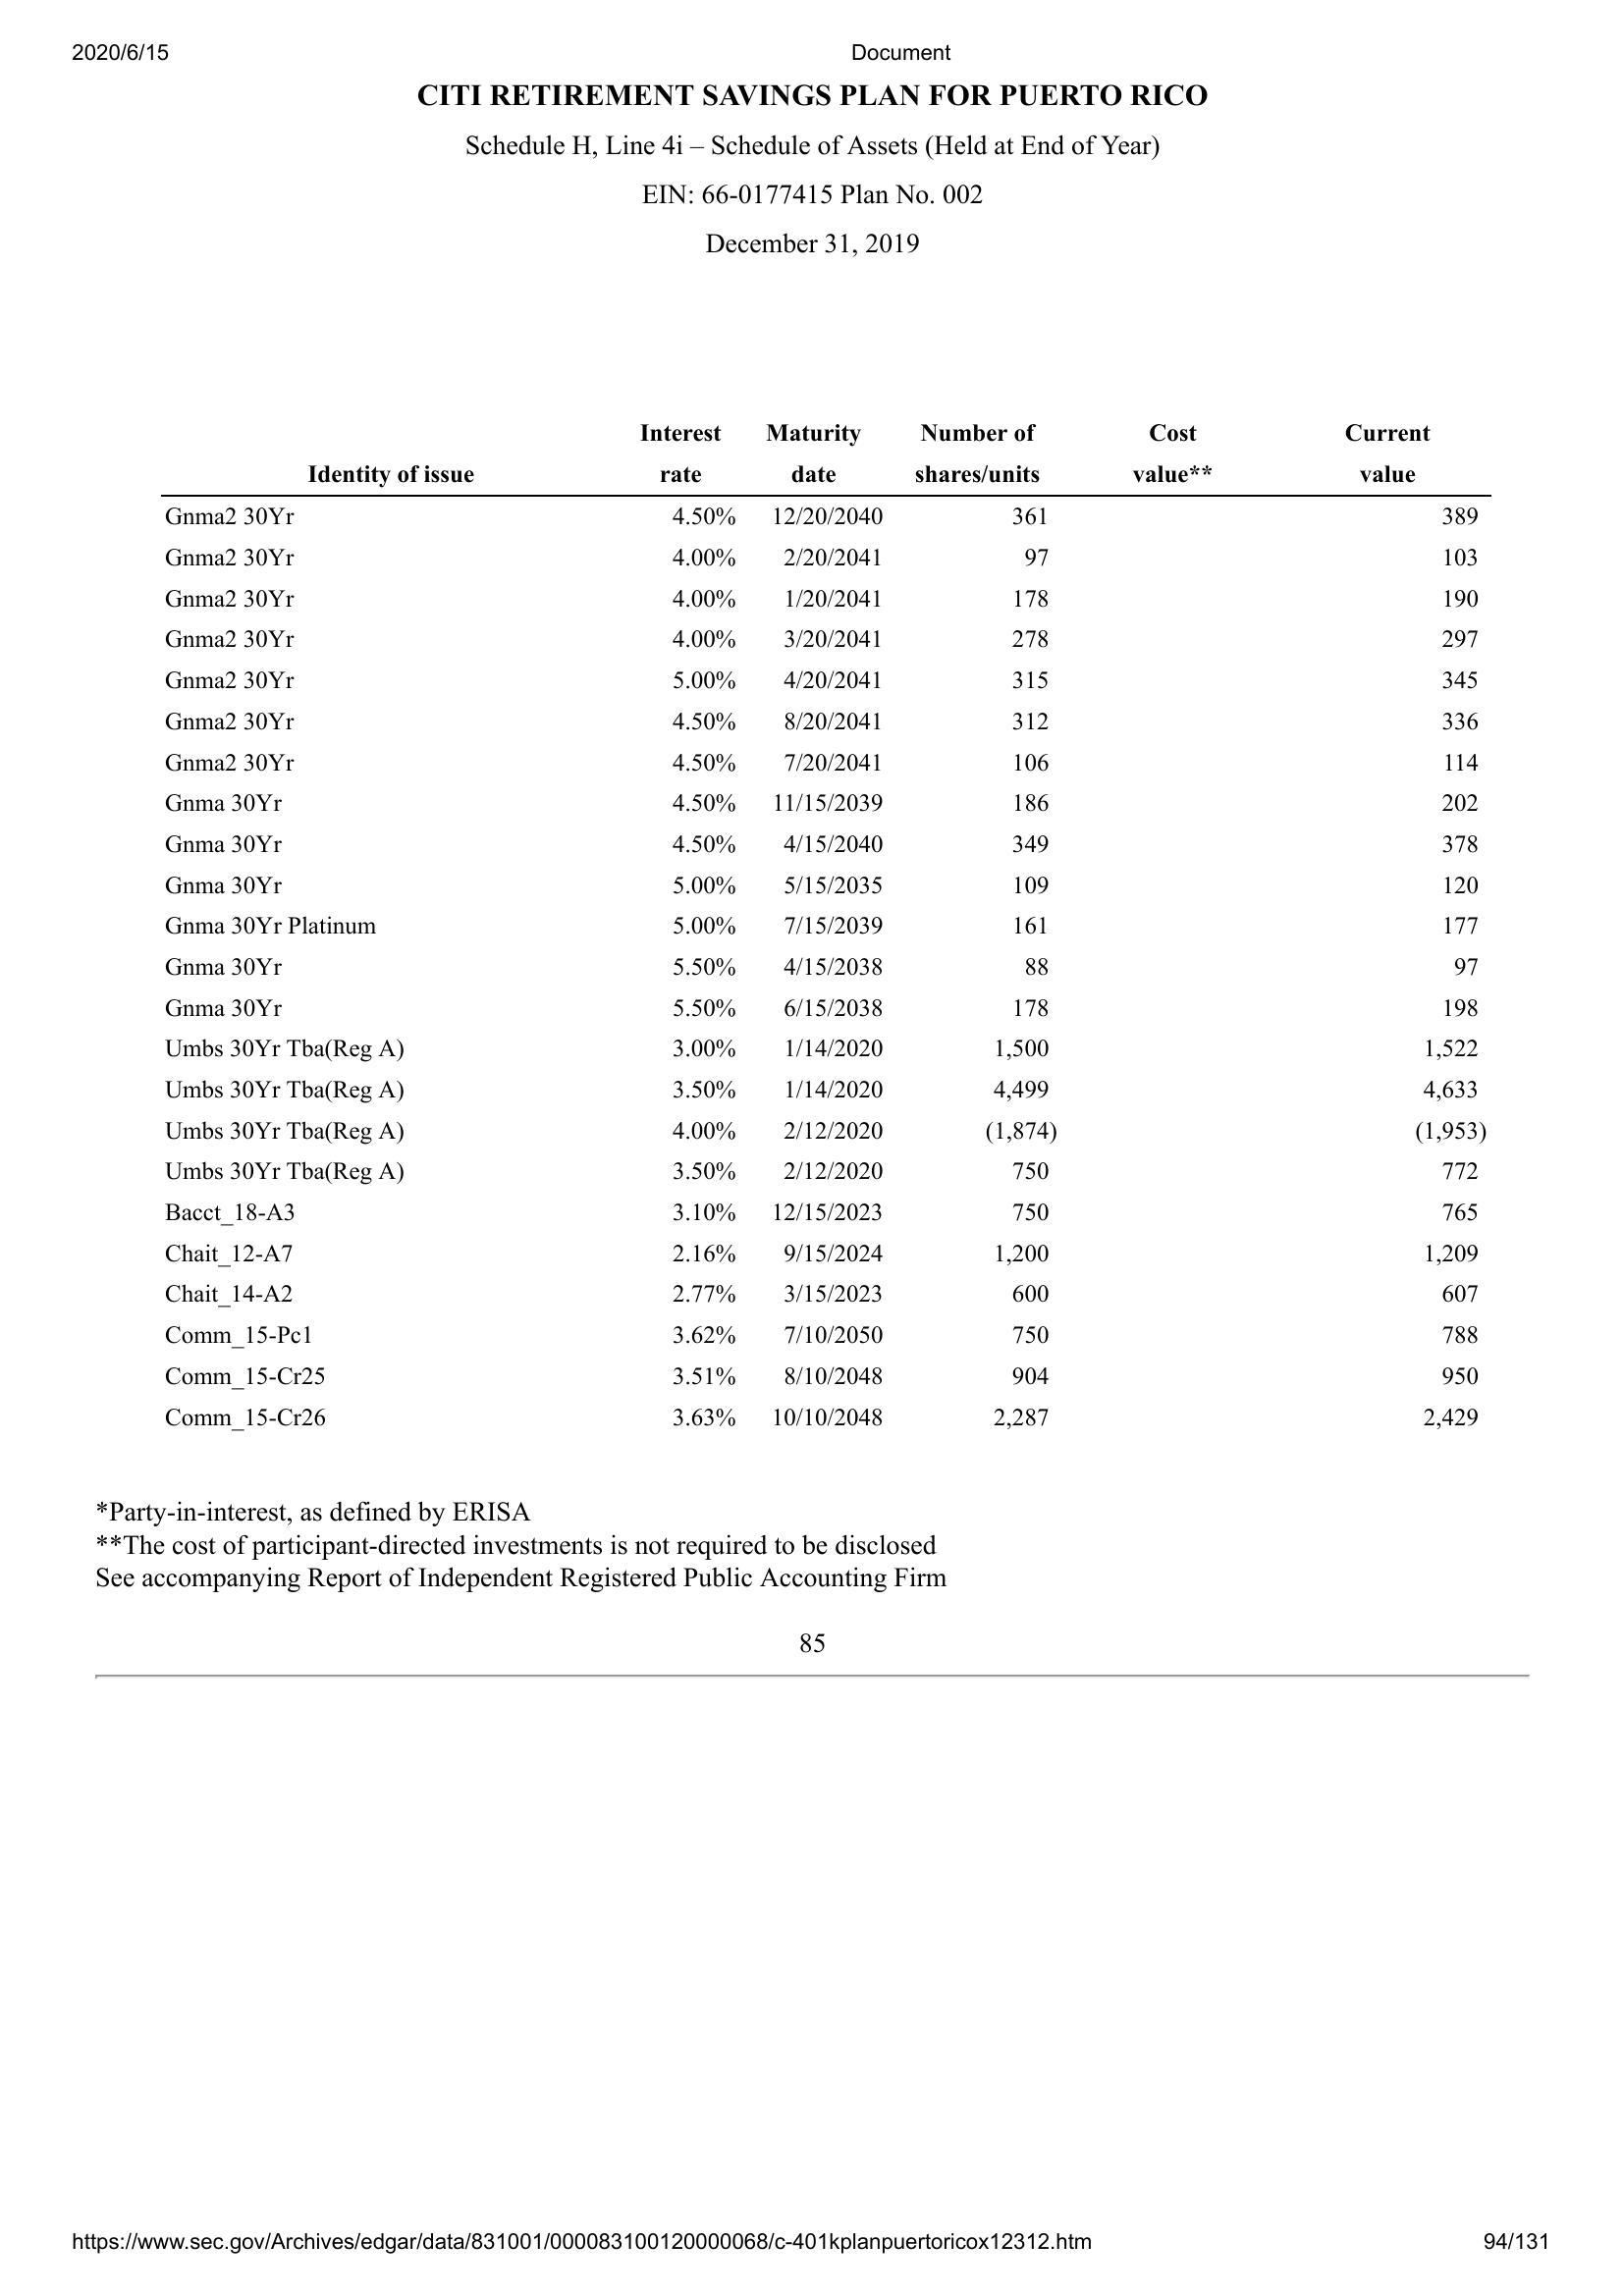table: (155, 416, 1497, 1439)
